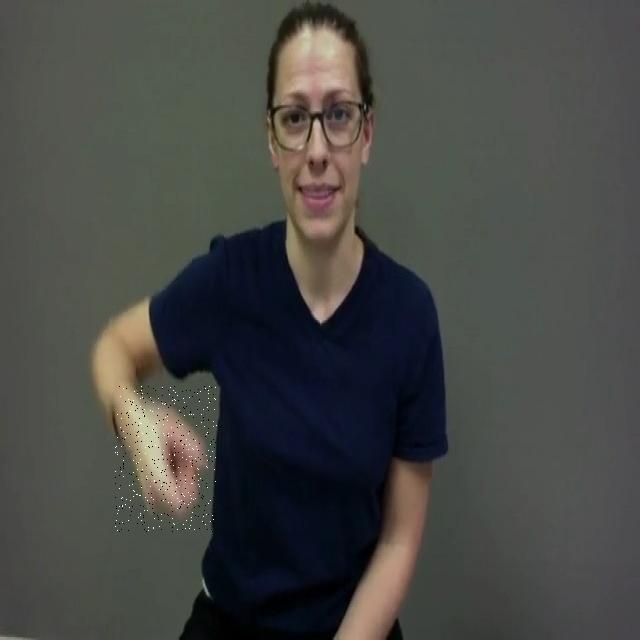bag: (115, 386, 217, 532)
